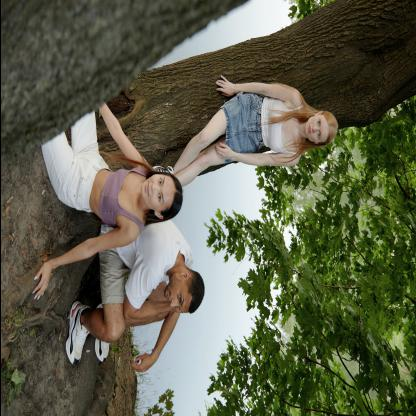Eye: (154, 191, 162, 203), (176, 292, 181, 304), (156, 177, 161, 187), (316, 118, 321, 128), (175, 304, 181, 312), (316, 130, 320, 140)
Mouth: (305, 124, 311, 136), (145, 182, 150, 196), (166, 291, 172, 302)
Nose: (150, 182, 158, 194), (170, 298, 176, 309), (312, 125, 318, 133)
